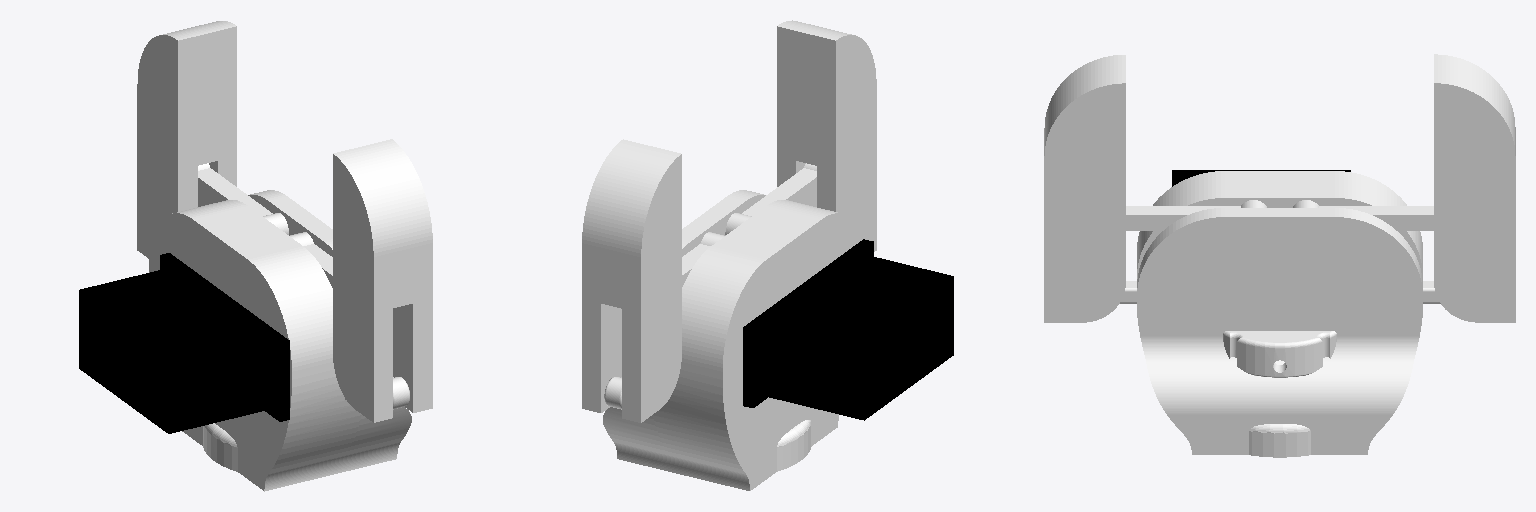
robot.urdf — myarm_300_pi_thorgripper:
<?xml version="1.0" ?>
<!-- =================================================================================== -->
<!-- |    This document was autogenerated by xacro from myarm_300_pi_thorgripper.urdf  | -->
<!-- |    EDITING THIS FILE BY HAND IS NOT RECOMMENDED                                 | -->
<!-- =================================================================================== -->
<robot name="myarm_300_pi_thorgripper">
  
  <!-- Links definitions -->
  
  <link name="base">
    <visual>
      <geometry>
        <mesh filename="../meshes/base.dae"/>
      </geometry>
      <origin rpy=" 0 0 0" xyz="0.0 0 0 "/>
    </visual>
    <collision>
      <geometry>
        <mesh filename="../meshes/base.dae"/>
      </geometry>
      <origin rpy=" 0 0 0" xyz="0.0 0 0 "/>
    </collision>
  </link>
  
  <link name="link1">
    <visual>
      <geometry>
        <mesh filename="../meshes/j1.dae"/>
      </geometry>
      <origin rpy=" 0 0 0" xyz="0.0 0 -0.086 "/>
    </visual>
    <collision>
      <geometry>
        <mesh filename="../meshes/j1.dae"/>
      </geometry>
      <origin rpy=" 0 0 0" xyz="0.0 0 -0.086 "/>
    </collision>
  </link>
  
  <link name="link2">
    <visual>
      <geometry>
        <mesh filename="../meshes/j2.dae"/>
      </geometry>
      <origin rpy=" 3.14159 0 -1.5708 " xyz="0.0 0 0.0 "/>
    </visual>
    <collision>
      <geometry>
        <mesh filename="../meshes/j2.dae"/>
      </geometry>
      <origin rpy=" 3.14159 0 -1.5708" xyz="0.0 0 0.0 "/>
    </collision>
  </link>
  
  <link name="link3">
    <visual>
      <geometry>
        <mesh filename="../meshes/j3.dae"/>
      </geometry>
      <origin rpy=" 0 0 0" xyz="0.0 0 -0.056 "/>
    </visual>
    <collision>
      <geometry>
        <mesh filename="../meshes/j3.dae"/>
      </geometry>
      <origin rpy=" 0 0 0" xyz="0.0 0 -0.056"/>
    </collision>
  </link>
  
  <link name="link4">
    <visual>
      <geometry>
        <mesh filename="../meshes/j4.dae"/>
      </geometry>
      <origin rpy="0 0 1.5708" xyz="0.0 0.000 0 "/>
    </visual>
    <collision>
      <geometry>
        <mesh filename="../meshes/j4.dae"/>
      </geometry>
      <origin rpy="0 0 1.5708" xyz="0.0 0.000 0 "/>
    </collision>
  </link>
  
  <link name="link5">
    <visual>
      <geometry>
        <mesh filename="../meshes/j5.dae"/>
      </geometry>
      <origin rpy=" 0 0 0" xyz="0 0.00 -0.0525 "/>
    </visual>
    <collision>
      <geometry>
        <mesh filename="../meshes/j5.dae"/>
      </geometry>
      <origin rpy=" 0 0 0" xyz="0 0.00 -0.0525 "/>
    </collision>
  </link>
  
  <link name="link6">
    <visual>
      <geometry>
        <mesh filename="../meshes/j6.dae"/>
      </geometry>
      <origin rpy=" 0 0 1.5708" xyz="0.0 0.000 -0.0 "/>
    </visual>
    <collision>
      <geometry>
        <mesh filename="../meshes/j6.dae"/>
      </geometry>
      <origin rpy=" 0 0 1.5708" xyz="0.0 0.000 -0.0 "/>
    </collision>
  </link>
  
  <link name="link7">
    <visual>
      <geometry>
        <mesh filename="../meshes/j7.dae"/>
      </geometry>
      <origin rpy=" 0 0 0" xyz="0.0002 -0.0002 -0.0185 "/>
    </visual>
    <collision>
      <geometry>
        <mesh filename="../meshes/j7.dae"/>
      </geometry>
      <origin rpy=" 0 0 0" xyz="0.0002 -0.0002 -0.0185 "/>
    </collision>
  </link>
    
  <link name="flange">
    <visual>
      <geometry>
        <mesh filename="../meshes/flange.dae"/>
      </geometry>
      <origin rpy="0 0 0" xyz="0 0 0"/>
    </visual>
    <collision>
      <geometry>
        <mesh filename="../meshes/flange.dae"/>
      </geometry>
      <origin rpy="0 0 0" xyz="0 0 0"/>
    </collision>
  </link>

  <link name="gripper_base">
    <inertial>
      <origin rpy="0 0 0" xyz="0 0 0"/>
      <mass value="1.0"/>
      <inertia ixx="1.0" ixy="0.0" ixz="0.0" iyy="1.0" iyz="0.0" izz="1.0"/>
    </inertial>
    <visual>
      <origin rpy="0 0 0" xyz="0 0 0"/>
      <geometry>
        <mesh filename="../meshes/GripperBase.dae" scale="0.001 0.001 0.001"/>
      </geometry>
    </visual>
    <collision>
      <origin rpy="0 0 0" xyz="0 0 0.0275"/>
      <geometry>
        <box size="0.065 0.0348 0.055"/>
      </geometry>
    </collision>
    <collision>
      <origin rpy="0 0 0" xyz="-0.004250 0.03125 0.0325" scale="0.001 0.001 0.001"/>
      <geometry>
        <box size="0.0406 0.0277 0.020"/>
      </geometry>
    </collision>
  </link>
  
  <link name="gripper_mid_point">
    <inertial>
      <origin rpy="0 0 0" xyz="0 0 0"/>
      <mass value="1.0"/>
      <inertia ixx="1.0" ixy="0.0" ixz="0.0" iyy="1.0" iyz="0.0" izz="1.0"/>
    </inertial>
  </link>
  <link name="gripper_arm_gear_right">
    <inertial>
      <origin rpy="0 0 0" xyz="0 0 0"/>
      <mass value="1.0"/>
      <inertia ixx="1.0" ixy="0.0" ixz="0.0" iyy="1.0" iyz="0.0" izz="1.0"/>
    </inertial>
    <visual>
      <origin rpy="0 -1.570796326795 1.570796326795" xyz="0 0 0"/>
      <geometry>
        <mesh filename="../meshes/GripperArmGear.dae" scale="0.001 0.001 0.001"/>
      </geometry>
    </visual>
    <collision>
      <origin rpy="0 0 0" xyz="0.0175 -0.0025 0.0"/>
      <geometry>
        <box size="0.035 0.005 0.004"/>
      </geometry>
    </collision>
  </link>
  
  <link name="gripper_arm_gear_left">
    <inertial>
      <origin rpy="0 0 0" xyz="0 0 0"/>
      <mass value="1.0"/>
      <inertia ixx="1.0" ixy="0.0" ixz="0.0" iyy="1.0" iyz="0.0" izz="1.0"/>
    </inertial>
    <visual>
      <origin rpy="0 1.570796326795 -1.570796326795" xyz="0 0 0"/>
      <geometry>
        <mesh filename="../meshes/GripperArmGear.dae" scale="0.001 0.001 0.001"/>
      </geometry>
    </visual>
    <collision>
      <origin rpy="0 0 0" xyz="-0.0175 -0.0025 0.0"/>
      <geometry>
        <box size="0.035 0.005 0.004"/>
      </geometry>
    </collision>
  </link>
  
  <link name="gripper_arm_simple_right">
    <inertial>
      <origin rpy="0 0 0" xyz="0 0 0"/>
      <mass value="1.0"/>
      <inertia ixx="1.0" ixy="0.0" ixz="0.0" iyy="1.0" iyz="0.0" izz="1.0"/>
    </inertial>
    <visual>
      <origin rpy="0 -1.570796326795 1.570796326795" xyz="0 0 0"/>
      <geometry>
        <mesh filename="../meshes/GripperArm.dae" scale="0.001 0.001 0.001"/>
      </geometry>
    </visual>
    <collision>
      <origin rpy="0 0 0" xyz="0.0175 -0.0025 0.0"/>
      <geometry>
        <box size="0.035 0.005 0.004"/>
      </geometry>
    </collision>
  </link>
  
  <link name="gripper_arm_simple_left">
    <inertial>
      <origin rpy="0 0 0" xyz="0 0 0"/>
      <mass value="1.0"/>
      <inertia ixx="1.0" ixy="0.0" ixz="0.0" iyy="1.0" iyz="0.0" izz="1.0"/>
    </inertial>
    <visual>
      <origin rpy="0 1.570796326795 -1.570796326795" xyz="0 0 0"/>
      <geometry>
        <mesh filename="../meshes/GripperArm.dae" scale="0.001 0.001 0.001"/>
      </geometry>
    </visual>
    <collision>
      <origin rpy="0 0 0" xyz="-0.0175 -0.0025 0.0"/>
      <geometry>
        <box size="0.035 0.005 0.004"/>
      </geometry>
    </collision>
  </link>
  
  <link name="gripper_finger_right">
    <inertial>
      <origin rpy="0 0 0" xyz="0 0 0"/>
      <mass value="1.0"/>
      <inertia ixx="1.0" ixy="0.0" ixz="0.0" iyy="1.0" iyz="0.0" izz="1.0"/>
    </inertial>
    <visual>
      <origin rpy="0 0 0" xyz="0 0 0"/>
      <geometry>
        <mesh filename="../meshes/GripperFinger.dae" scale="0.001 0.001 0.001"/>
      </geometry>
    </visual>
    <collision>
      <origin rpy="0 0 0" xyz="0.00525 0.026 0.00775"/>
      <geometry>
        <box size="0.0185 0.06 0.0155"/>
      </geometry>
    </collision>
  </link>
  
  <link name="gripper_finger_left">
    <inertial>
      <origin rpy="0 0 0" xyz="0 0 0"/>
      <mass value="1.0"/>
      <inertia ixx="1.0" ixy="0.0" ixz="0.0" iyy="1.0" iyz="0.0" izz="1.0"/>
    </inertial>
    <visual>
      <origin rpy="0 0 0" xyz="0 0 0"/>
      <geometry>
        <mesh filename="../meshes/GripperFinger.dae" scale="0.001 0.001 0.001"/>
      </geometry>
    </visual>
    <collision>
      <origin rpy="0 0 0" xyz="0.00525 0.026 0.00775"/>
      <geometry>
        <box size="0.0185 0.06 0.0155"/>
      </geometry>
    </collision>
  </link>
  
  <!-- Joints definitions -->
  
  <joint name="joint1" type="revolute">
    <axis xyz="0 0 1"/>
    <limit effort="1000.0" lower="-2.7925" upper="2.7925" velocity="0"/>
    <parent link="base"/>
    <child link="link1"/>
    <origin rpy="0 0 0" xyz="0 0 0.1695"/>
  </joint>
  
  <joint name="joint2" type="revolute">
    <axis xyz="0 0 1"/>
    <limit effort="1000.0" lower="-1.2217" upper="2.0071" velocity="0"/>
    <parent link="link1"/>
    <child link="link2"/>
    <!-- <origin xyz= "0 0  0" rpy = "1.5708 3.14159 0"/>   -->
    <origin rpy="-1.5708 0 0" xyz="0 0  0"/>
  </joint>
  
  <joint name="joint3" type="revolute">
    <axis xyz=" 0 0 1"/>
    <limit effort="1000.0" lower="-2.9670" upper="2.9670" velocity="0"/>
    <parent link="link2"/>
    <child link="link3"/>
    <origin rpy="1.5708 0 0" xyz="0 -0.1155 0   "/>
  </joint>
  
  <joint name="joint4" type="revolute">
    <axis xyz=" 0 0 1"/>
    <limit effort="1000.0" lower="-1.9722" upper="1.3089" velocity="0"/>
    <parent link="link3"/>
    <child link="link4"/>
    <origin rpy="1.5708 0 0" xyz="0.0 0 0.0"/>
  </joint>
  
  <joint name="joint5" type="revolute">
    <axis xyz="0 0 1"/>
    <limit effort="1000.0" lower="-2.9670" upper="2.9670" velocity="0"/>
    <parent link="link4"/>
    <child link="link5"/>
    <origin rpy="-1.5708 0 0" xyz="0 0.1278 0"/>
  </joint>
  
  <joint name="joint6" type="revolute">
    <axis xyz="0 0 1"/>
    <limit effort="1000.0" lower="-2.0071" upper="2.0071" velocity="0"/>
    <parent link="link5"/>
    <child link="link6"/>
    <origin rpy="1.5708 0 0" xyz="0 0.0 0"/>
  </joint>
  
  <joint name="joint7" type="revolute">
    <axis xyz="0 0 1"/>
    <limit effort="1000.0" lower="-3.14159" upper="3.14159" velocity="0"/>
    <parent link="link6"/>
    <child link="link7"/>
    <origin rpy="-1.5708 0 0" xyz="0 0.066 0"/>
  </joint>

  <joint name="link7_to_flange" type="fixed">
    <parent link="link7"/>
    <child link="flange"/>
    <origin rpy="0 0 1.5708" xyz="0 0 0"/>
  </joint>

  <joint name="flange_to_gripper_base" type="fixed">
    <parent link="flange"/>
    <child link="gripper_base"/>
    <origin rpy="0 0 0" xyz="0 0 0"/>
  </joint>
  
  <joint name="gripperbase_to_midpoint" type="fixed">
    <parent link="gripper_base"/>
    <child link="gripper_mid_point"/>
    <origin rpy="0 0 0" xyz="0 0 0"/>
  </joint>
  
  <joint name="endeffector_gripper" type="revolute">
    <parent link="gripper_base"/>
    <child link="gripper_arm_gear_right"/>
    <origin rpy="0 0 0" xyz="0.0145 0.00275 0.0325"/>
    <axis xyz="0 1 0"/>
    <limit effort="4.0" lower="-1.570796326795" upper="0" velocity="1.0"/>
  </joint>
  
  <joint name="gripperbase_to_armgearleft" type="revolute">
    <parent link="gripper_base"/>
    <child link="gripper_arm_gear_left"/>
    <origin rpy="0 0 0" xyz="-0.0145 0.00275 0.0325"/>
    <axis xyz="0 1 0"/>
    <limit effort="4.0" lower="0" upper="1.570796326795" velocity="1.0"/>
    <mimic joint="endeffector_gripper" multiplier="-1"/>
  </joint>
  
  <joint name="gripperbase_to_armsimpleright" type="revolute">
    <parent link="gripper_base"/>
    <child link="gripper_arm_simple_right"/>
    <origin rpy="0 0 0" xyz="0.006 0.00275 0.051"/>
    <axis xyz="0 1 0"/>
    <limit effort="4.0" lower="-1.570796326795" upper="0" velocity="1.0"/>
    <mimic joint="endeffector_gripper" multiplier="1"/>
  </joint>
  
  <joint name="gripperbase_to_armsimpleleft" type="revolute">
    <parent link="gripper_base"/>
    <child link="gripper_arm_simple_left"/>
    <origin rpy="0 0 0" xyz="-0.006 0.00275 0.051"/>
    <axis xyz="0 1 0"/>
    <limit effort="4.0" lower="0" upper="1.570796326795" velocity="1.0"/>
    <mimic joint="endeffector_gripper" multiplier="-1"/>
  </joint>
  
  <joint name="armgearright_to_fingerright" type="revolute">
    <parent link="gripper_arm_gear_right"/>
    <child link="gripper_finger_right"/>
    <origin rpy="-1.570796326795 3.14159265359 0" xyz="0.035 -0.01023 0"/>
    <axis xyz="0 0 1"/>
    <limit effort="4.0" lower="0" upper="1.570796326795" velocity="1.0"/>
    <mimic joint="endeffector_gripper" multiplier="-1"/>
  </joint>
  
  <joint name="armgearleft_to_fingerleft" type="revolute">
    <parent link="gripper_arm_gear_left"/>
    <child link="gripper_finger_left"/>
    <origin rpy="1.570796326795 0 0" xyz="-0.035 0.005175 0"/>
    <axis xyz="0 0 1"/>
    <limit effort="4.0" lower="0" upper="1.570796326795" velocity="1.0"/>
    <mimic joint="endeffector_gripper" multiplier="-1"/>
  </joint>
  
  <!-- End-effector dummy link -->
  
  <link name="endeffector">
    <!-- No visual or collision needed, just a reference frame -->
  </link>
  <!-- Fixed transform from link7 to end-effector -->
  <joint name="link7_to_endeffector" type="fixed">
    <parent link="link7"/>
    <child link="endeffector"/>
    <origin rpy="0 0 0" xyz="0.0 0.0 0.1"/>
  </joint>
</robot>

--- What the picture shows (computed from the rendered views, not written in the file) ---
Views: 3 orthographic renders of the robot side by side, from view 1: azimuth 30°, elevation 25°; view 2: azimuth 150°, elevation 25°; view 3: azimuth 270°, elevation 25°.
Robot: myarm_300_pi_thorgripper — 18 links, 17 joints (13 revolute, 4 fixed); root link base; default pose: every joint at zero.
Visible links, largest first — view 1: gripper_base, gripper_finger_left, gripper_finger_right, gripper_arm_simple_right, flange, gripper_arm_simple_left; view 2: gripper_base, gripper_finger_right, gripper_finger_left, gripper_arm_simple_left, flange, gripper_arm_simple_right; view 3: gripper_base, gripper_finger_right, gripper_finger_left, flange, gripper_arm_simple_right, gripper_arm_simple_left.
Link boxes in pixels (x1,y1,x2,y2): gripper_base: (79,190,411,491); gripper_finger_left: (333,139,432,422); gripper_finger_right: (137,21,236,258); gripper_arm_simple_right: (198,163,288,234); flange: (203,423,237,471); gripper_arm_simple_left: (290,232,332,287); gripper_base: (603,190,953,490); gripper_finger_right: (582,139,681,422); gripper_finger_left: (777,20,876,251); gripper_arm_simple_left: (725,163,816,234); flange: (777,420,810,471); gripper_arm_simple_right: (682,232,724,286); gripper_base: (1137,170,1422,454); gripper_finger_right: (1434,54,1515,322); gripper_finger_left: (1044,55,1125,322); flange: (1223,331,1336,457); gripper_arm_simple_right: (1293,200,1433,230); gripper_arm_simple_left: (1126,200,1266,230).
Bounding box of the posed robot: 0.0638 × 0.107 × 0.0885 m (x, y, z).
Meshes: 13 distinct files referenced, 8 mesh visuals loaded (5 Collada DAE); not drawn: 8 (reference not matched to a file when rendering).
